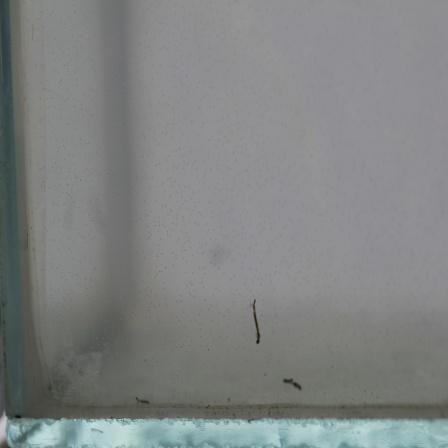Jentik-Nyamuk: (249, 297, 263, 349), (281, 373, 307, 395)
